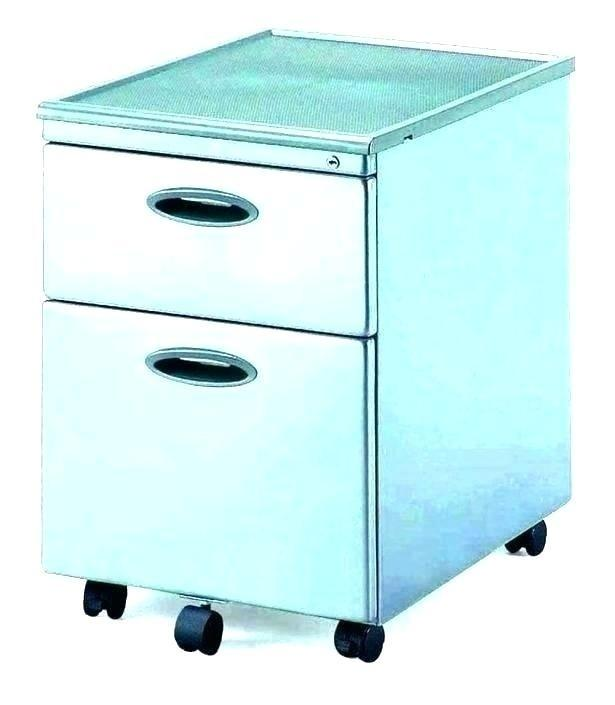cabinet_door: (39, 319, 366, 597), (40, 156, 366, 317)
handle: (142, 344, 258, 392), (143, 186, 261, 230)
